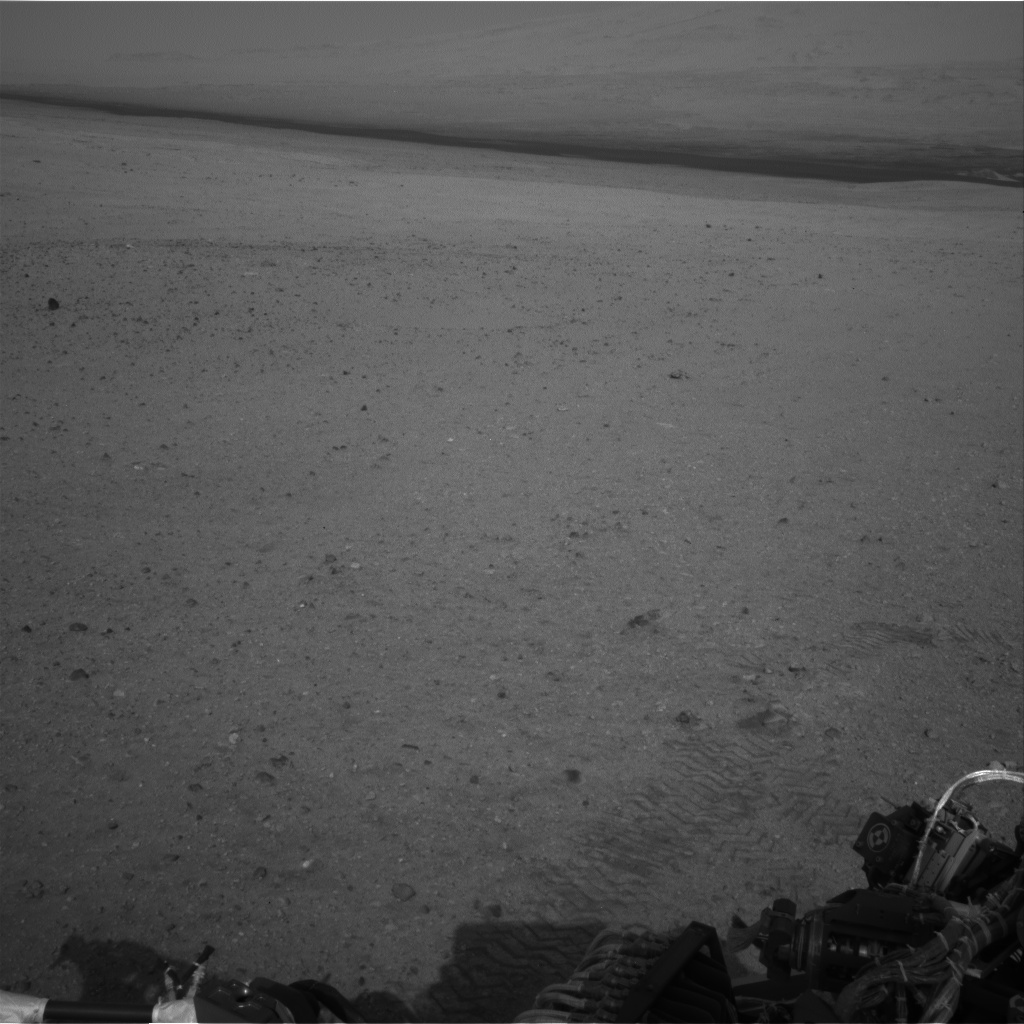soil: (11, 280, 1015, 964)
